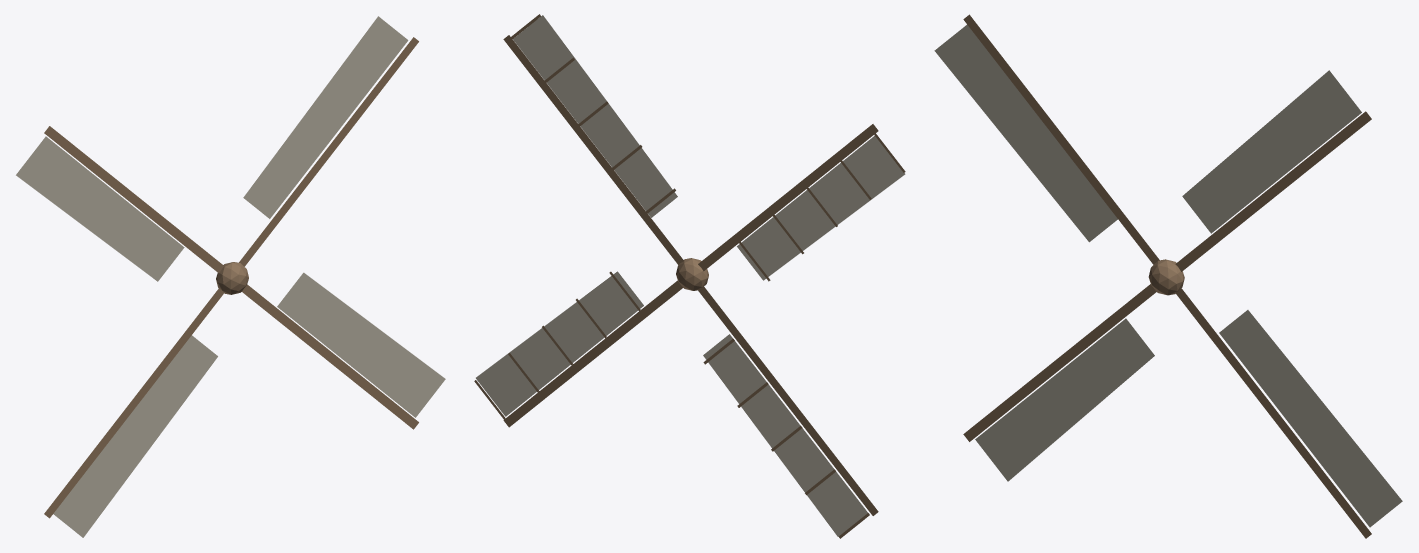
Rendered from windmill_sails.glb.
3 renders of one model, left to right at view 1: azimuth 30°, elevation 25°; view 2: azimuth 150°, elevation 25°; view 3: azimuth 330°, elevation 25°, orthographic. The views are drawn at different scales.
Parts seen in each view (by area): view 1: windmill_sails; view 2: windmill_sails; view 3: windmill_sails.
Part boxes in pixels (x1,y1,x2,y2): windmill_sails: (16, 16, 445, 537); windmill_sails: (474, 14, 905, 538); windmill_sails: (934, 14, 1402, 538).
Bounding box in the file's own units: 8.58 × 8.58 × 0.5.
